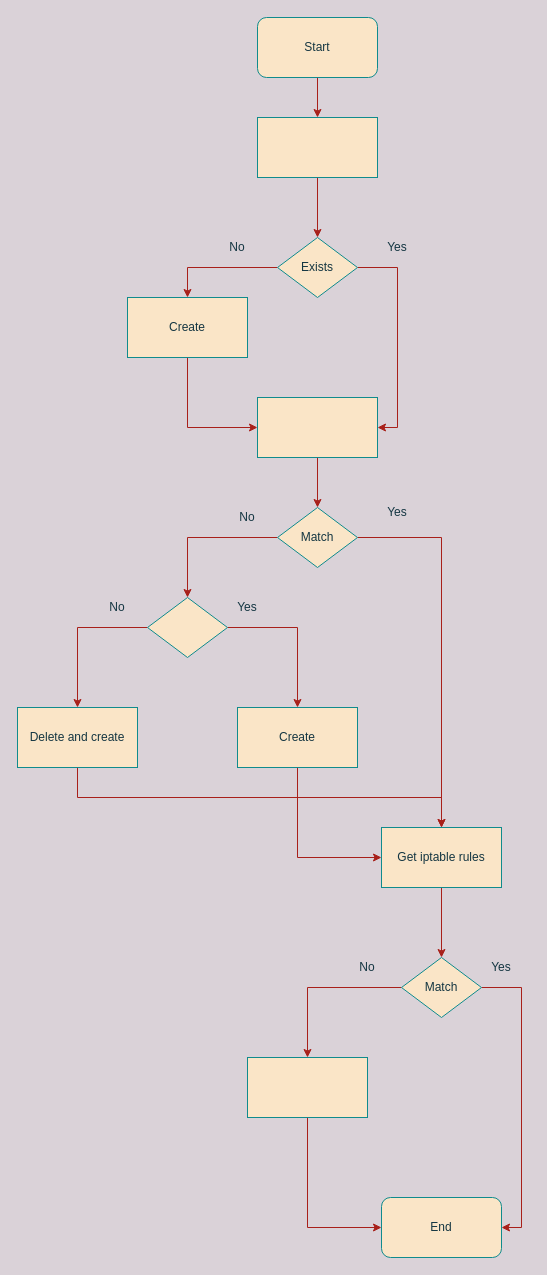
Some shapes in this 547 by 1275 pixel diagram are drawn without their labels. The centre of each missing label's shape, as x and y in pixels:
Empty: the point at 187,627
FindLinkByName: the point at 317,147
GetAddr: the point at 317,427
refresh rules: the point at 307,1087
